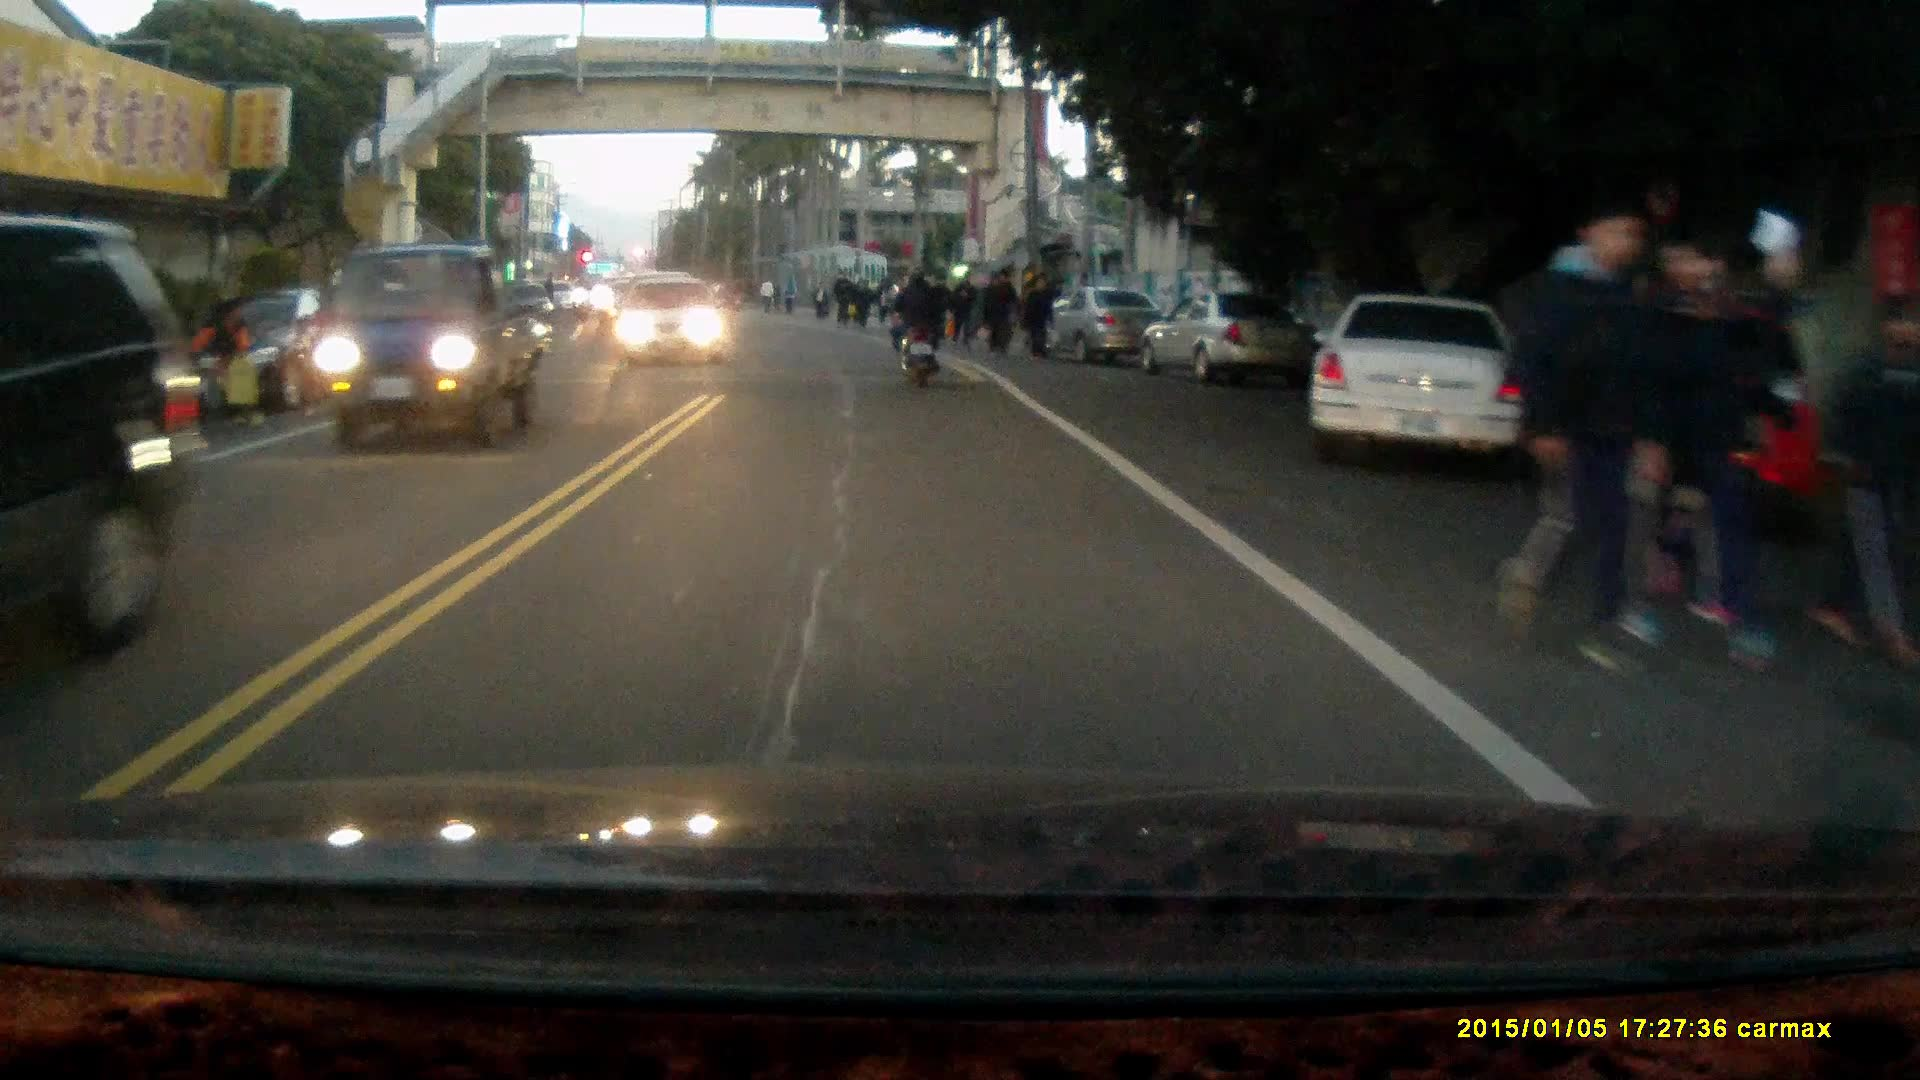pedestrian: (1496, 186, 1674, 673), (1622, 223, 1809, 680), (1817, 297, 1914, 660), (994, 261, 1025, 354), (982, 274, 1011, 364), (1025, 279, 1053, 357), (950, 270, 976, 346)
rider: (881, 263, 945, 388)
vehicle: (1, 213, 211, 656), (308, 243, 559, 457), (1310, 291, 1529, 461), (200, 285, 403, 414), (1148, 292, 1312, 393), (1043, 288, 1170, 368), (618, 279, 725, 366)
